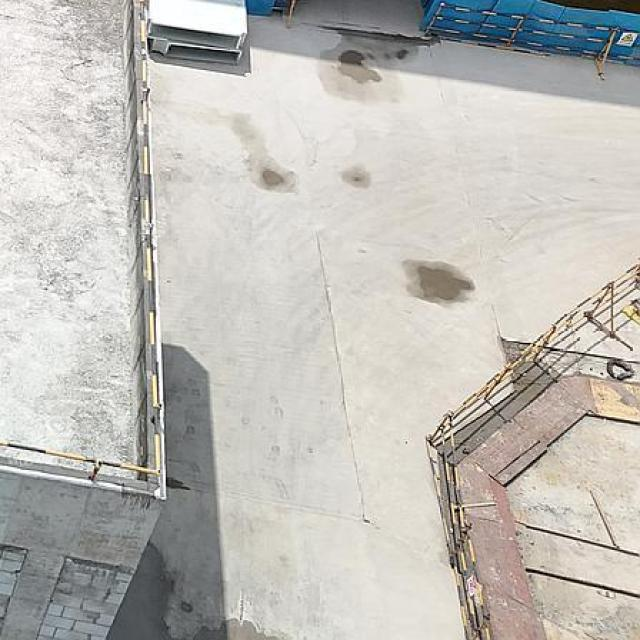Guardrail: (0, 0, 165, 481)
